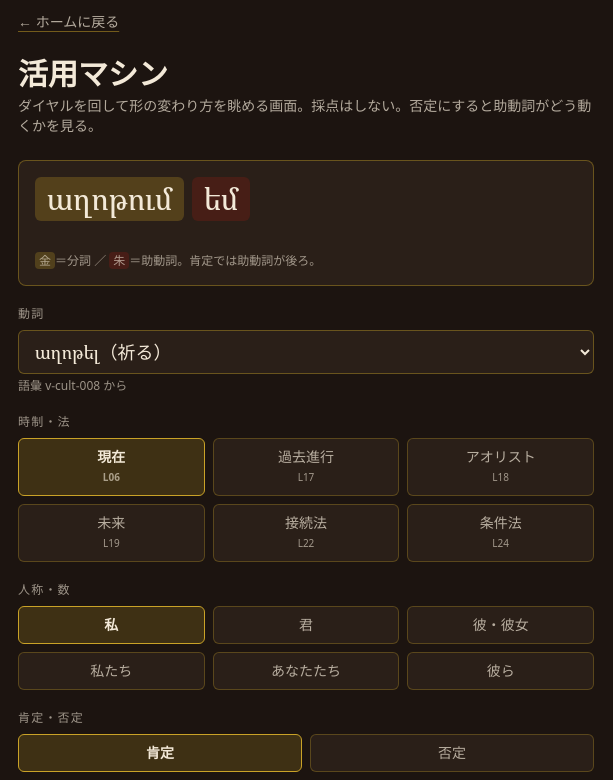
Test: ConjugationMachine › renders a synthetic tense as a single tile with no auxiliary tile
Select "գրել（書く）" in the dropdown at x=306, y=352, box [18,330,594,374]
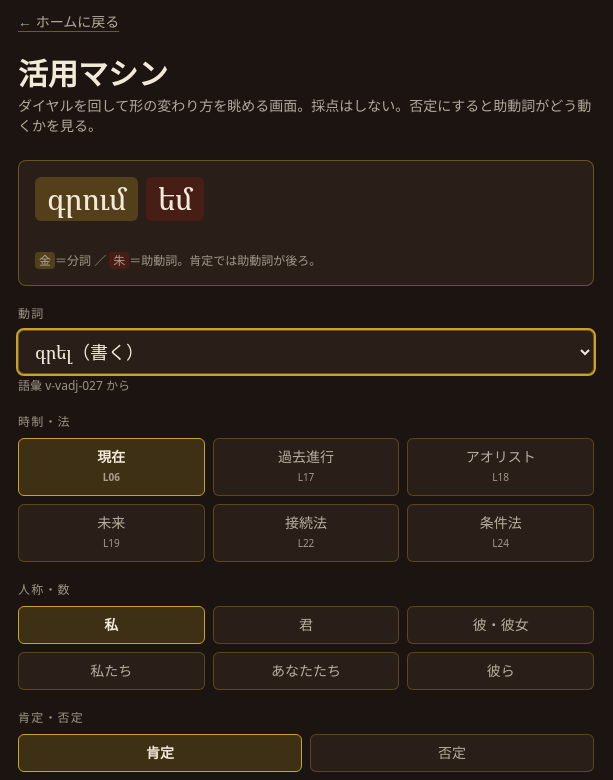
Click the button "アオリスト L18" at x=501, y=467, box [407,438,594,496]
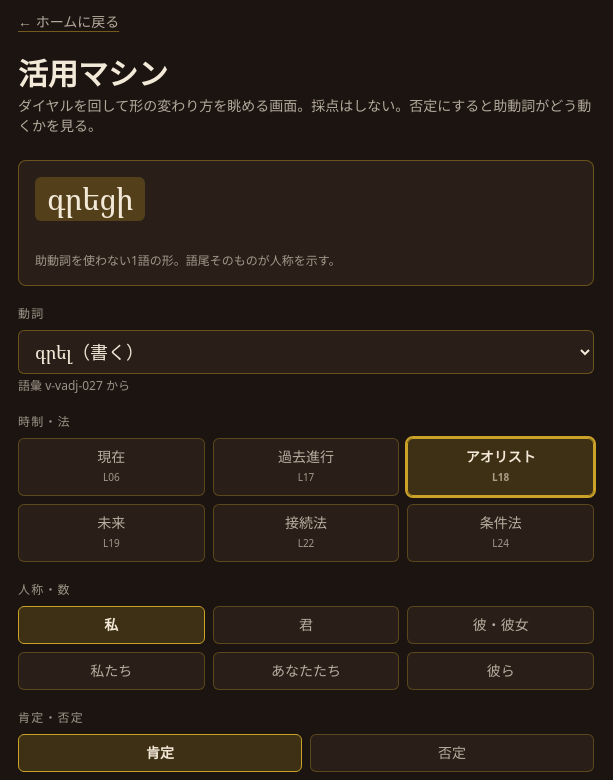
Result: the text "գրեցի" is shown at [35,177,145,221]
Result: the text "助動詞を使わない1語の形。語尾そのものが人称を示す。" is shown at [35,252,341,269]
